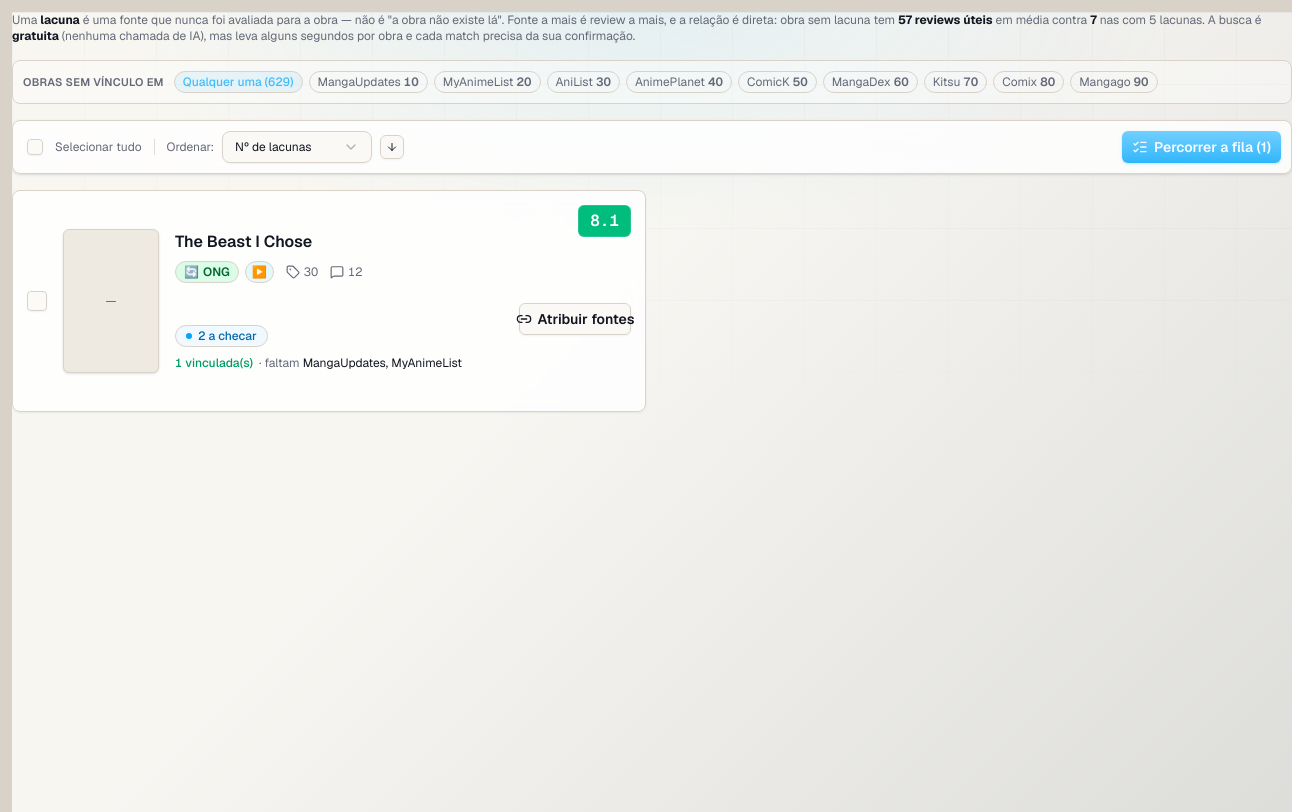
Test: marcar ausente em lote › SEM fonte ativa o botão não existe — e a tela diz como chegar lá
The width and height of the screenshot is (1292, 812).
Click the checkbox named "Selecionar tudo" at (35, 147), box [27, 139, 43, 155]
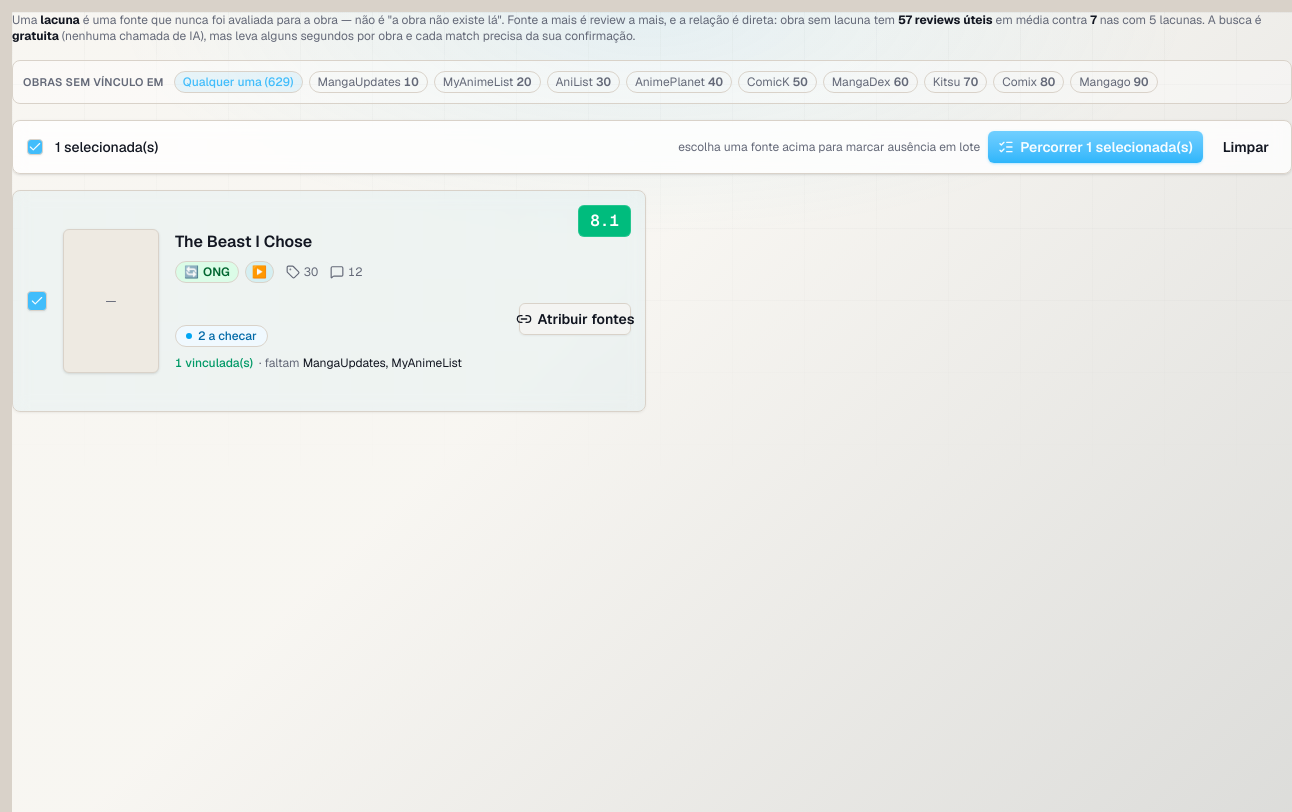
Check: the text "escolha uma fonte acima para marcar ausência em lote" is shown, box [678, 139, 980, 155]
